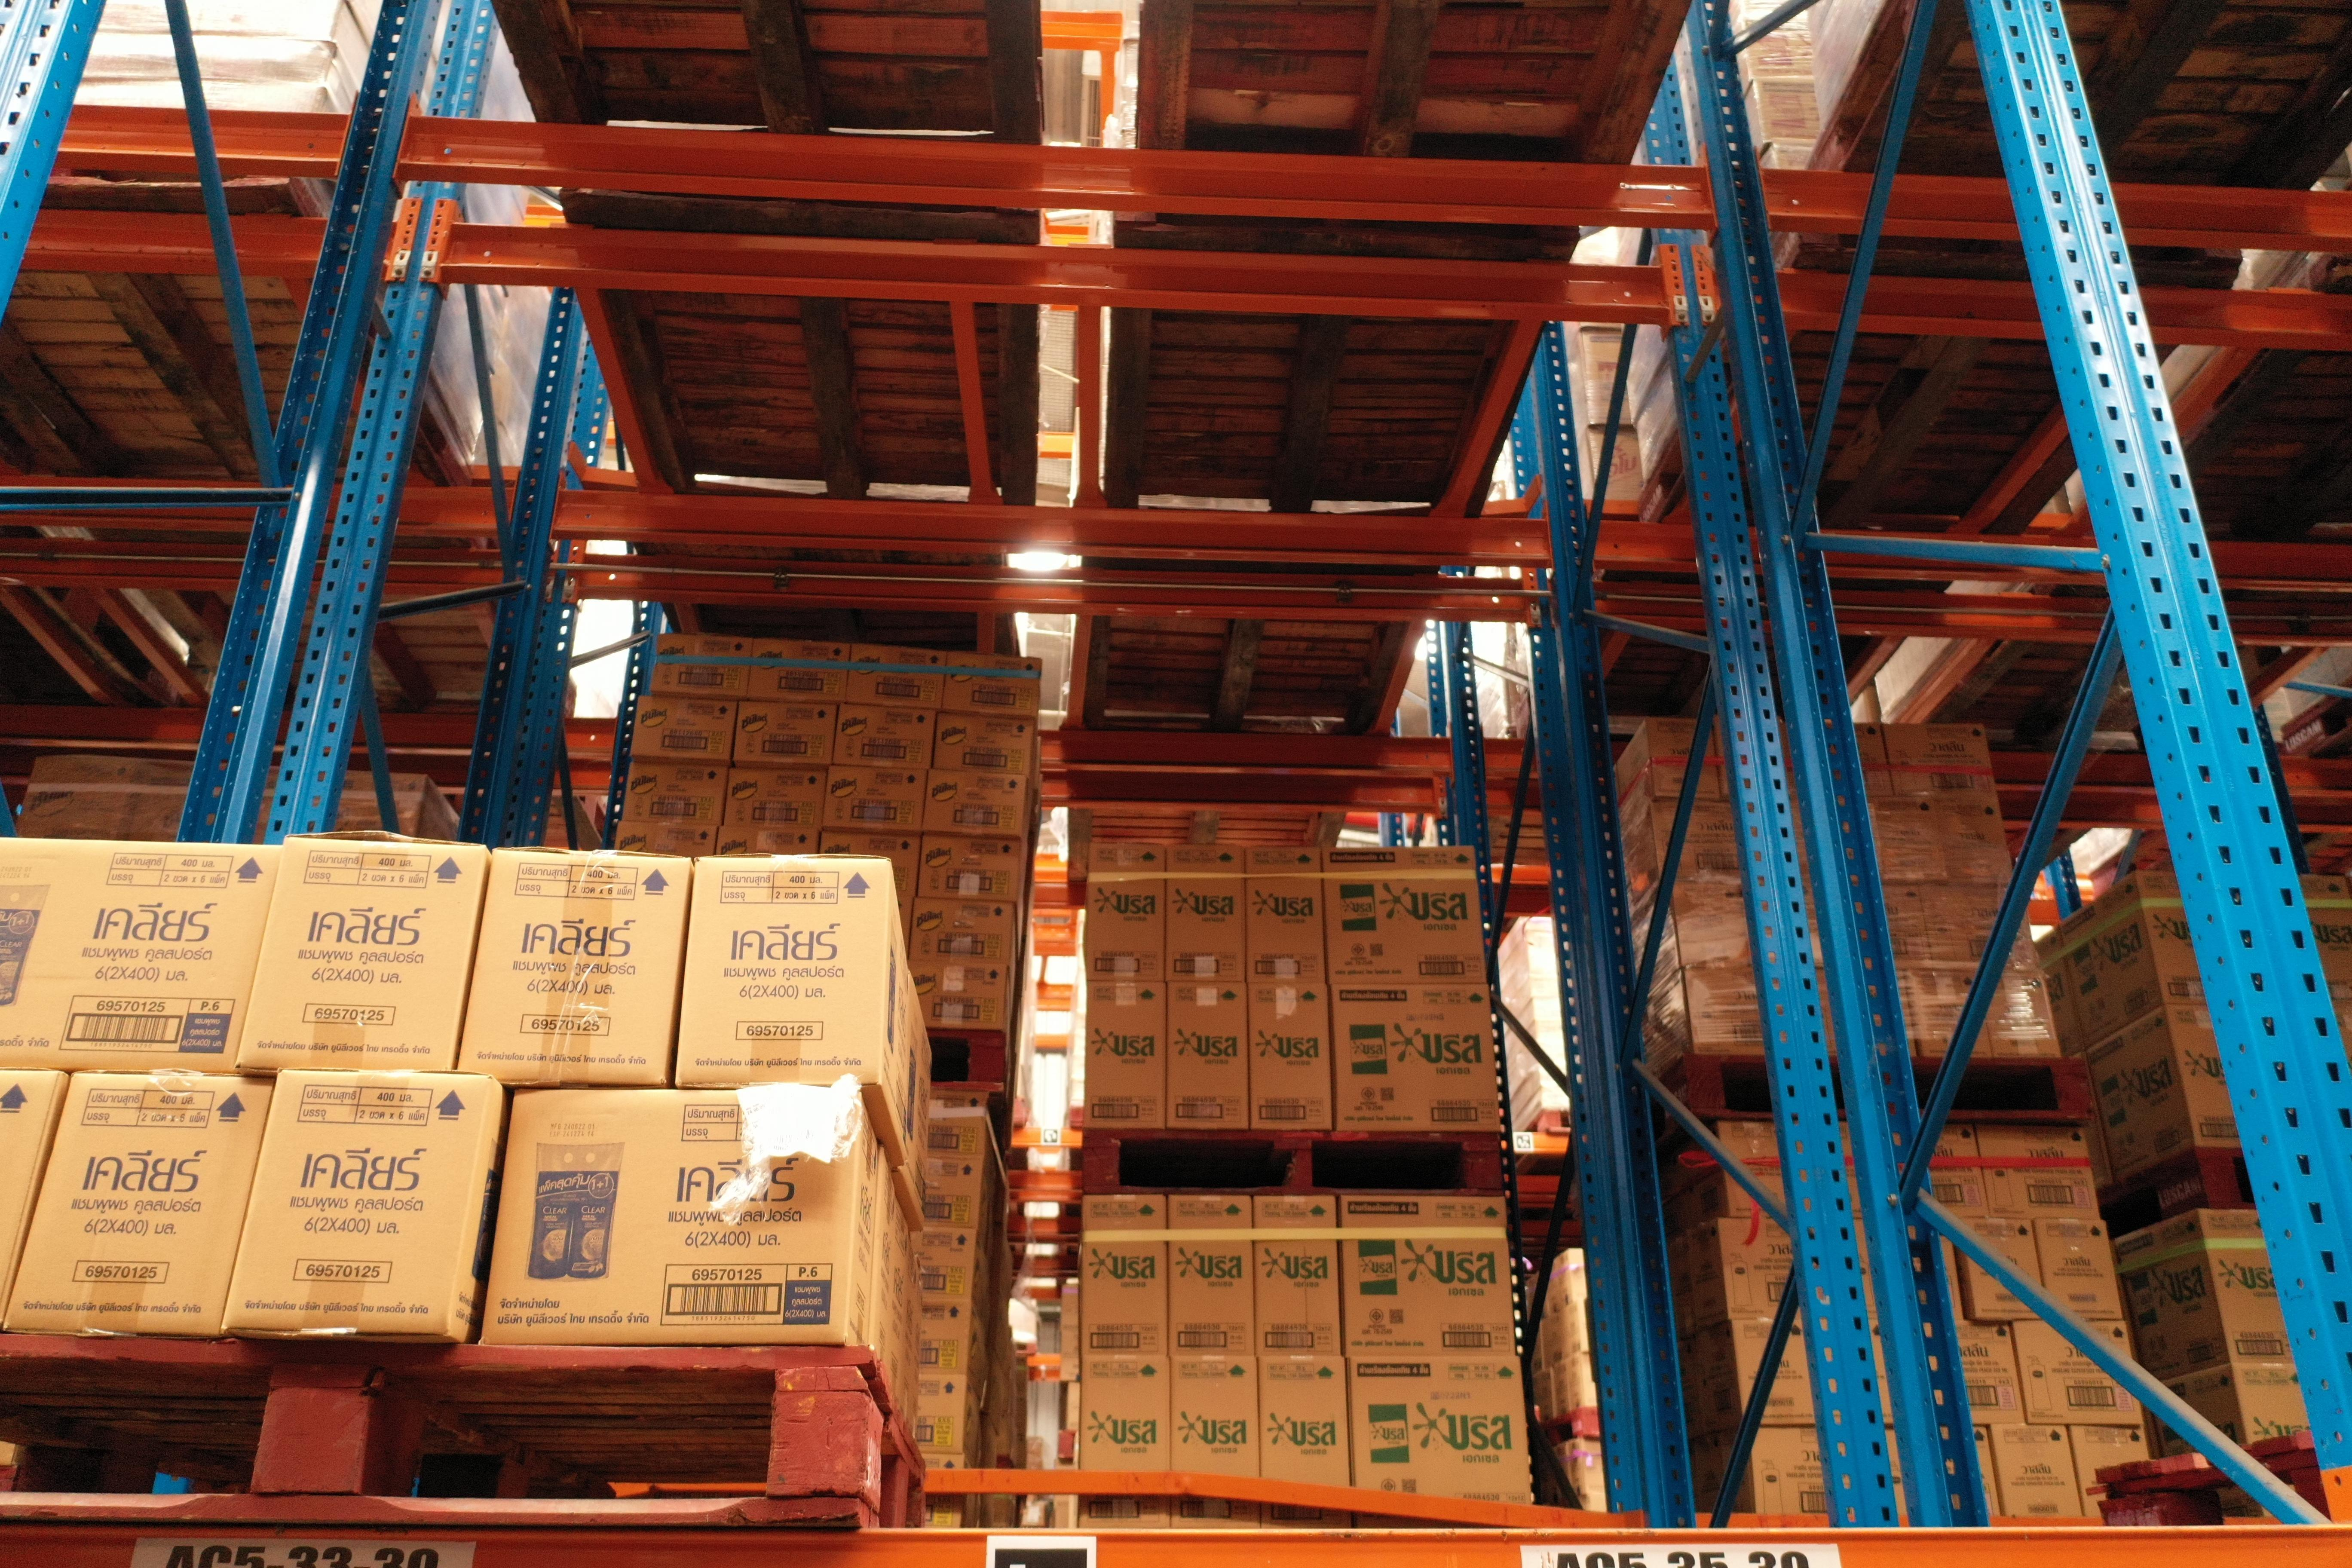-: (483, 1085, 857, 1344), (220, 1071, 490, 1340), (3, 1074, 276, 1335), (0, 833, 283, 1074), (234, 829, 490, 1078), (453, 847, 696, 1085), (675, 854, 885, 1090), (0, 1066, 66, 1332)
2: (1347, 1358, 1538, 1531), (1339, 1195, 1517, 1360), (1330, 980, 1500, 1132), (1323, 845, 1486, 987), (1256, 1354, 1353, 1531), (1169, 1358, 1262, 1531), (1078, 1356, 1171, 1528), (1081, 1192, 1167, 1360), (1169, 1195, 1255, 1360), (1255, 1195, 1342, 1356), (2012, 1318, 2140, 1428), (1974, 1120, 2100, 1221), (1248, 982, 1332, 1130), (1165, 978, 1248, 1129), (1087, 980, 1167, 1130), (1087, 842, 1165, 983), (1244, 845, 1325, 983), (1165, 845, 1244, 983), (1920, 880, 2037, 969), (1879, 721, 1998, 801), (2032, 1216, 2123, 1321), (1990, 1421, 2084, 1521), (1960, 1216, 2049, 1321), (1732, 1319, 1816, 1428), (1717, 1216, 1804, 1319), (1902, 968, 1991, 1059), (1650, 798, 1743, 885), (1668, 882, 1755, 975), (2072, 1424, 2152, 1519), (1956, 1321, 2028, 1426), (831, 700, 938, 770), (1976, 969, 2060, 1057), (1715, 1120, 1788, 1220), (1750, 1426, 1829, 1519), (730, 698, 838, 765), (745, 637, 850, 705), (931, 710, 1036, 779), (915, 833, 1020, 901), (940, 651, 1041, 721), (1920, 1120, 1990, 1221), (630, 695, 737, 761), (822, 766, 929, 833), (651, 632, 754, 700), (817, 831, 920, 898), (908, 961, 1006, 1031), (847, 644, 948, 710), (621, 759, 728, 822), (908, 898, 1011, 962), (1935, 798, 2014, 882), (924, 772, 1024, 836), (1874, 798, 1946, 884), (723, 768, 826, 828), (1685, 968, 1762, 1046), (1650, 714, 1722, 798), (1883, 882, 1934, 969), (614, 821, 717, 857), (716, 826, 821, 859)
